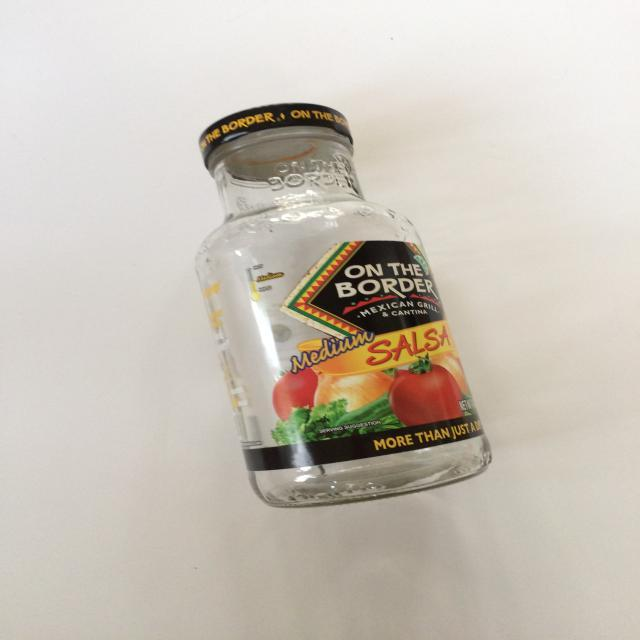glass: (194, 101, 496, 512)
